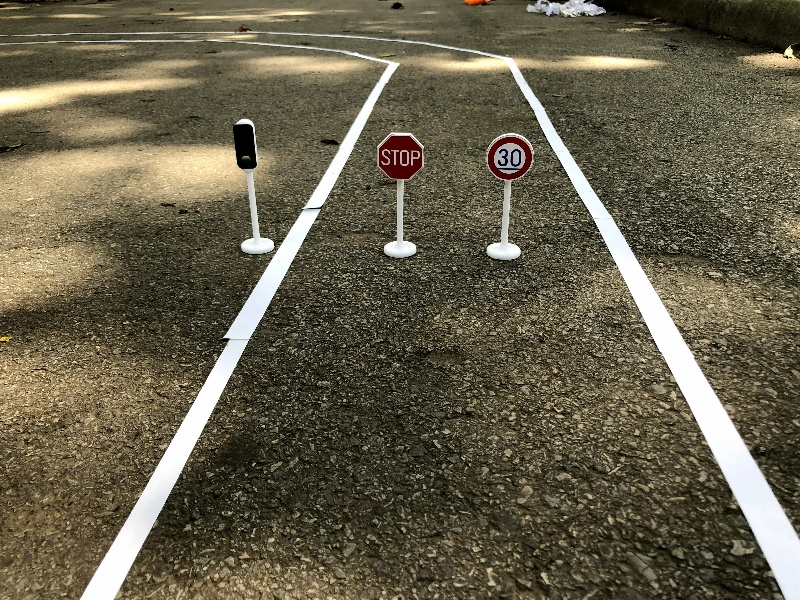Green: (230, 116, 279, 256)
Limit 30: (482, 131, 536, 261)
Stop: (373, 130, 426, 261)
